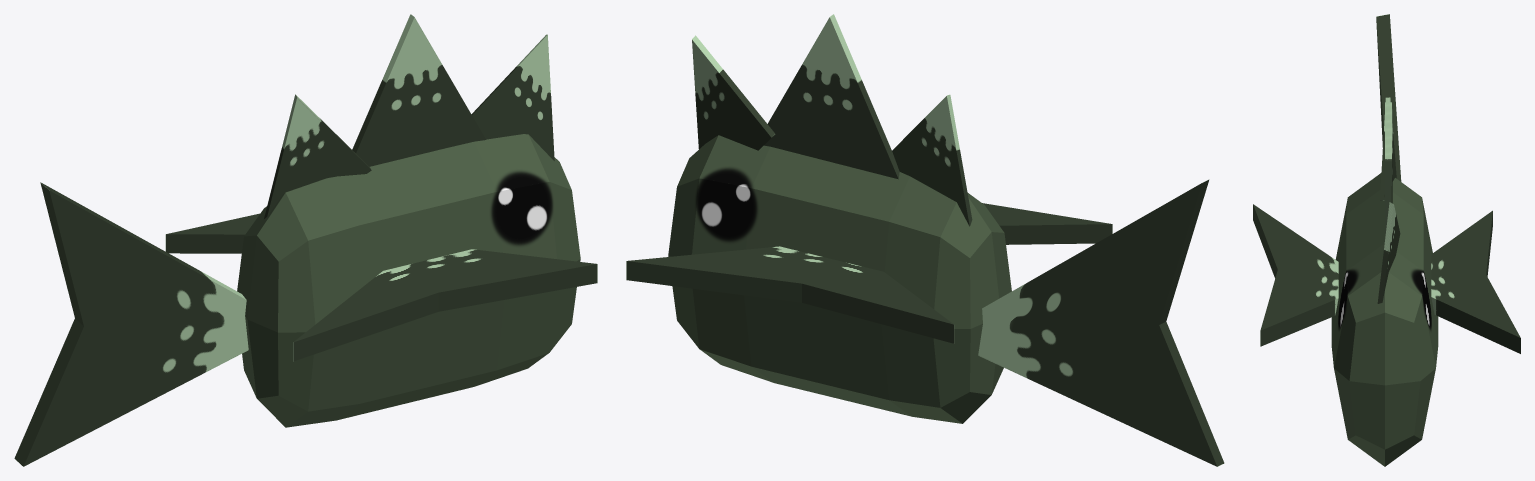
Rendered from fish3.glb.
The picture shows the model from 3 angles, left to right: view 1: azimuth 30°, elevation 25°; view 2: azimuth 150°, elevation 25°; view 3: azimuth 270°, elevation 25°; orthographic projection. The views are drawn at different scales.
Parts seen in each view (by area): view 1: Cube.002, Plane.010, Plane.009, Plane.011, Plane.013, Plane.014, Plane.012; view 2: Cube.002, Plane.010, Plane.012, Plane.011, Plane.014, Plane.013, Plane.009; view 3: Cube.002, Plane.009, Plane.012, Plane.010, Plane.013, Plane.011, Plane.014.
Boxes of the visible parts, x1,y1,x2,y2 form: Cube.002: (237,134,580,427); Plane.010: (14,182,248,466); Plane.009: (293,249,597,361); Plane.011: (352,14,485,166); Plane.013: (471,34,554,160); Plane.014: (264,94,371,218); Plane.012: (165,213,259,253); Cube.002: (668,135,1011,423); Plane.010: (978,179,1224,466); Plane.012: (626,246,954,343); Plane.011: (764,14,899,179); Plane.014: (892,94,972,226); Plane.013: (692,35,774,150); Plane.009: (982,203,1112,244); Cube.002: (1331,173,1438,466); Plane.009: (1253,204,1338,346); Plane.012: (1431,210,1520,353); Plane.010: (1376,14,1401,181); Plane.013: (1377,202,1400,303); Plane.011: (1384,102,1392,241); Plane.014: (1380,97,1396,200).
Bounding box in the file's own units: 7.1 × 4.77 × 3.59.
2 materials, 2 textured.
